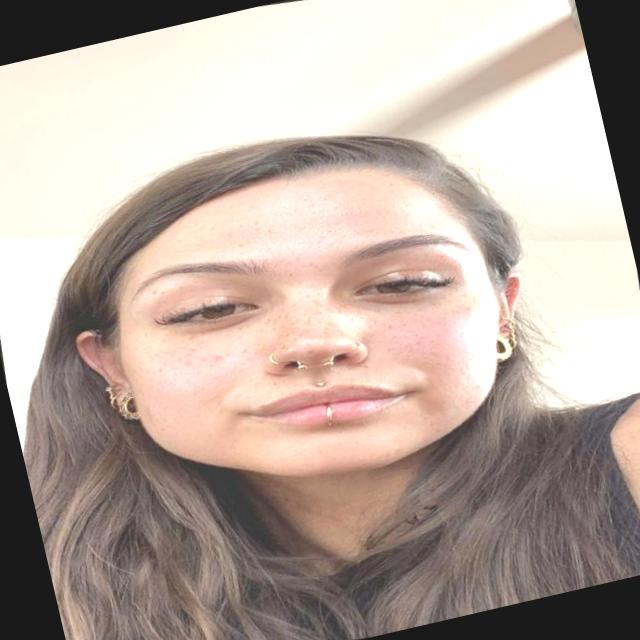freckle: (132, 258, 458, 409)
